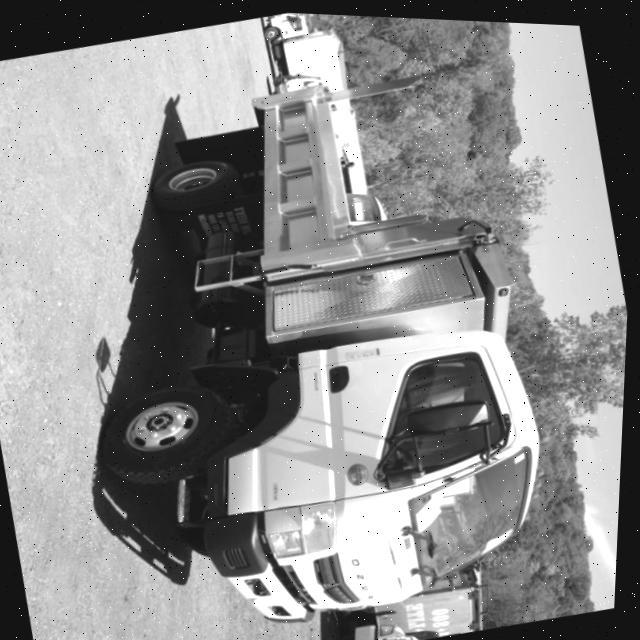truck: (42, 43, 581, 640), (254, 9, 368, 102)
